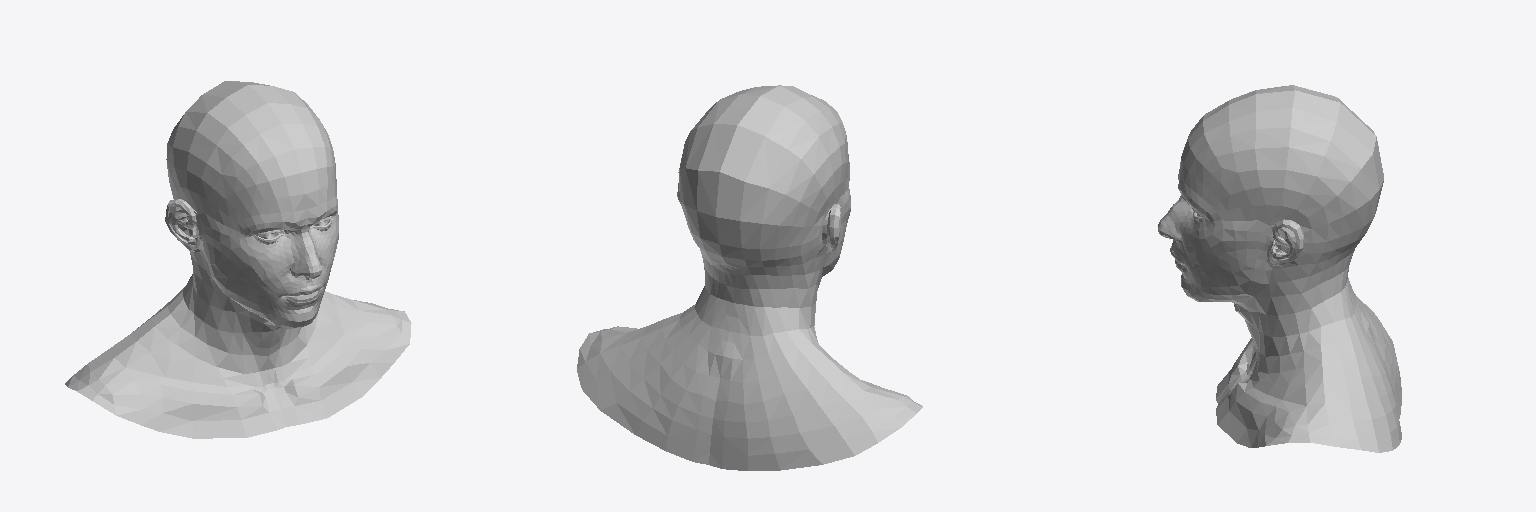
Rendered from head copy.obj.
3 renders of one model, left to right at view 1: azimuth 30°, elevation 25°; view 2: azimuth 150°, elevation 25°; view 3: azimuth 270°, elevation 25°, orthographic.
Parts seen in each view (by area): view 1: male; view 2: male; view 3: male.
Boxes of the visible parts, x1,y1,x2,y2 form: male: [65, 81, 411, 438]; male: [577, 85, 922, 470]; male: [1158, 85, 1401, 452].
Size of the model in its own units: 43.29 by 41.79 by 28.